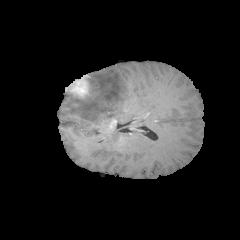glioma: (66, 67, 129, 129)
